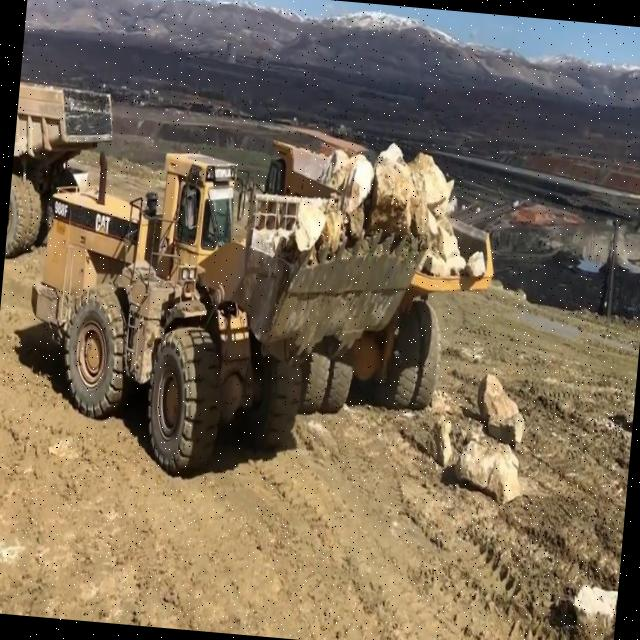Dump Truck: (241, 122, 505, 426), (4, 73, 118, 265)
Loader: (15, 123, 438, 500)
